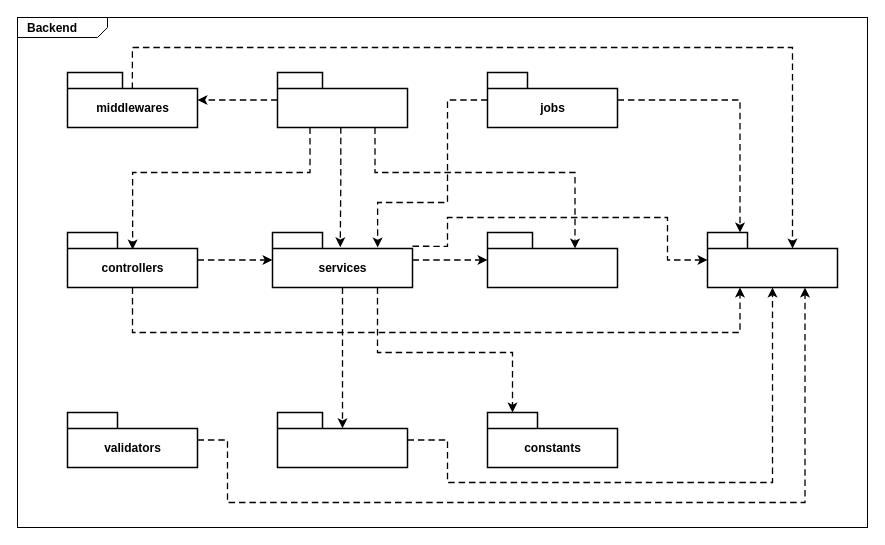
This 885x545 diagram has some shape labels left out. The shapes that lost their labels are listed below. From the top down, each one's centre as x and y in pixels, then its label:
point 342,99: routes
point 552,259: models
point 772,259: utils
point 342,439: config
